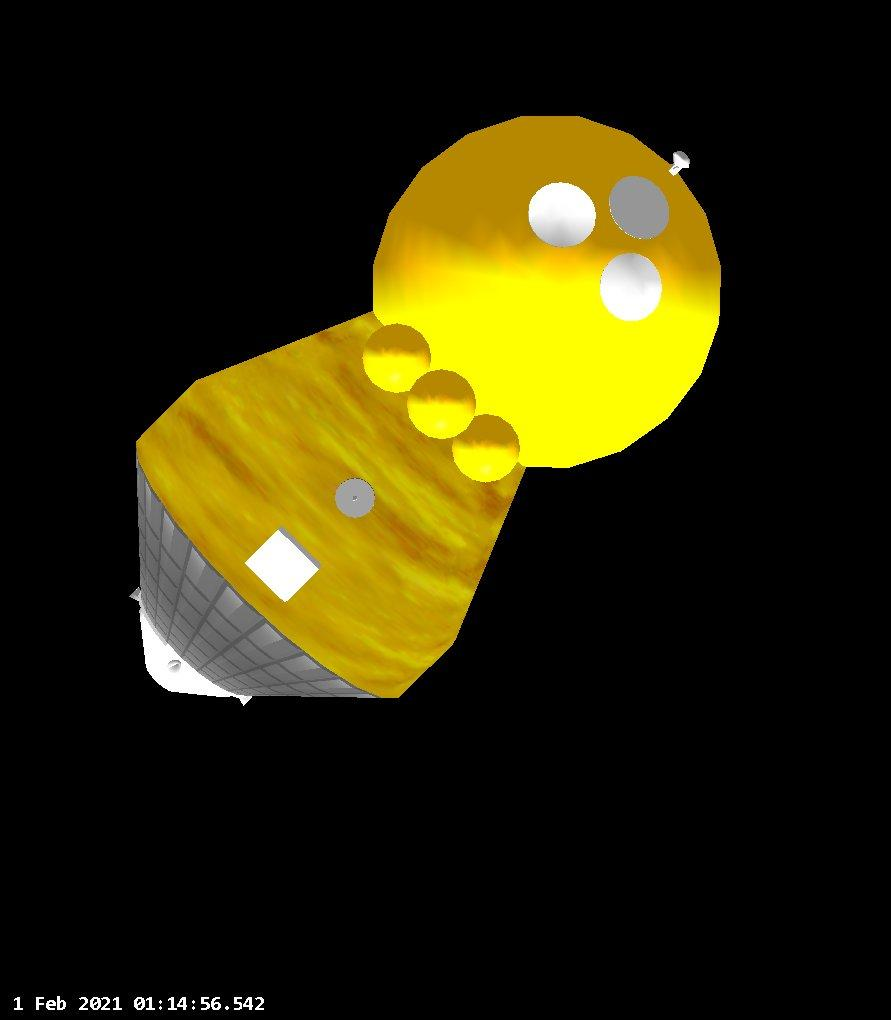antenna: (525, 178, 598, 251), (607, 172, 673, 241), (600, 250, 663, 321), (333, 476, 376, 520), (668, 149, 691, 177)
body: (130, 111, 726, 702)
